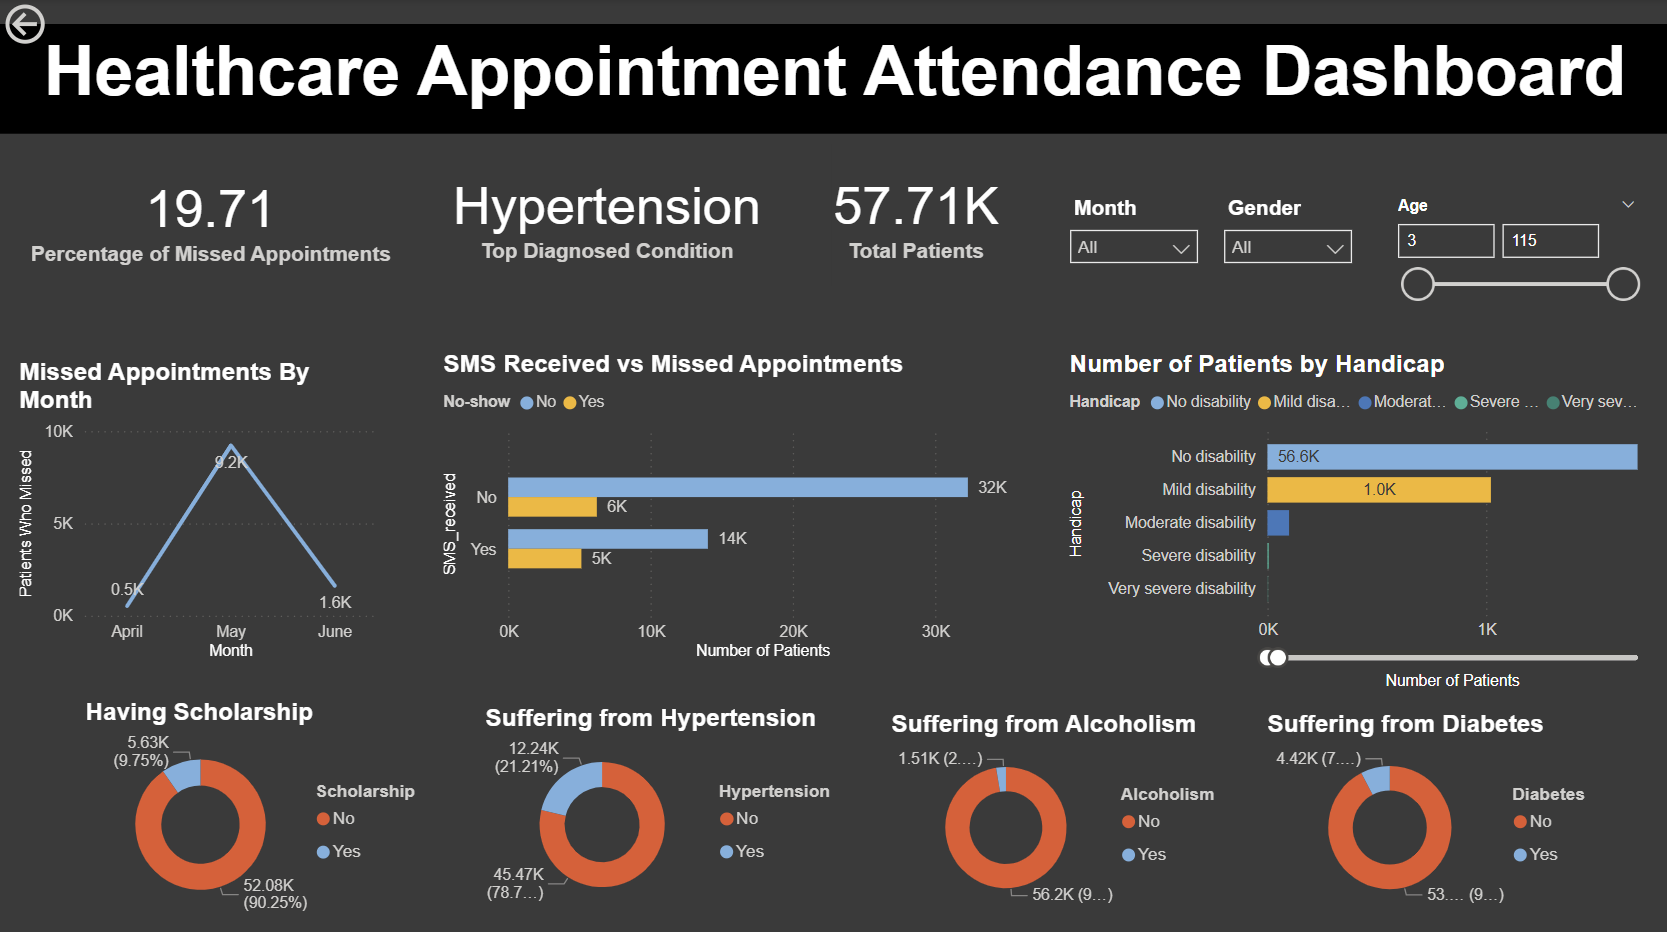

The dashboard page shown, as its layout file describes it:
{"tool":"powerbi","page":{"name":"Page 1","canvas":[1280,720],"ordinal":0},"visuals":[{"type":"textbox","box":[0,19.9,1280,84.2],"z":0},{"type":"card","fields":{"Values":["KaggleV2-May-2016.PatientId"]},"box":[607.8,111.8,188.3,108.7],"z":1000},{"type":"donutChart","title":"Suffering from Diabetes","fields":{"Y":["KaggleV2-May-2016.PatientId"],"Series":["KaggleV2-May-2016.Diabetes"]},"box":[966.1,545.1,272.5,159.2],"z":2000},{"type":"donutChart","title":"Suffering from Hypertension","fields":{"Y":["KaggleV2-May-2016.PatientId"],"Series":["KaggleV2-May-2016.Hipertension"]},"box":[367.5,540.5,278.7,163.8],"z":3000},{"type":"donutChart","title":"Suffering from Alcoholism","fields":{"Y":["KaggleV2-May-2016.PatientId"],"Series":["KaggleV2-May-2016.Alcoholism"]},"box":[678.3,545.1,272.5,159.2],"z":4000},{"type":"barChart","title":"Number of Patients by Handicap ","fields":{"Y":["KaggleV2-May-2016.PatientId"],"Category":["KaggleV2-May-2016.Handcap"],"Series":["KaggleV2-May-2016.Handcap"]},"box":[814.5,269.5,460.9,263.3],"z":5000},{"type":"donutChart","title":"Having Scholarship","fields":{"Y":["KaggleV2-May-2016.PatientId"],"Series":["KaggleV2-May-2016.Scholarship"]},"box":[61.2,535.9,274.1,173],"z":6000},{"type":"actionButton","box":[0,0,100,40],"z":7000},{"type":"card","fields":{"Values":["KaggleV2-May-2016.Most_Common_Issue"]},"box":[294,111.8,343,108.7],"z":8000},{"type":"card","fields":{"Values":["KaggleV2-May-2016.NoShow_Percentage"]},"box":[15.3,116.4,294,104.1],"z":9000},{"type":"slicer","fields":{"Values":["KaggleV2-May-2016.Gender"]},"box":[927.8,147,117.9,93.4],"z":10000},{"type":"slicer","fields":{"Values":["KaggleV2-May-2016.Age"]},"box":[1058,147,206.7,98],"z":11000},{"type":"lineChart","title":"Missed Appointments By Month","fields":{"Category":["KaggleV2-May-2016.AppointmentDay.Variation.Date Hierarchy.Month"],"Y":["KaggleV2-May-2016.NoShow_Count"]},"box":[10.7,275.6,283.3,235.8],"z":12000},{"type":"clusteredBarChart","title":"SMS Received vs Missed Appointments","fields":{"Category":["KaggleV2-May-2016.SMS_received"],"Y":["KaggleV2-May-2016.PatientId"],"Series":["KaggleV2-May-2016.No-show"]},"box":[335.3,269.5,460.9,241.9],"z":13000},{"type":"slicer","fields":{"Values":["KaggleV2-May-2016.AppointmentMonth"]},"box":[810,147,117.9,122.5],"z":14000}]}

Visuals, with their boxes in screenshot pixels (x1, y1, x2, y2), scaled from the page's 1280x720 canvas onto the 1667x932 screenshot:
textbox: [0, 26, 1666, 135]
card - KaggleV2-May-2016.PatientId: [792, 145, 1037, 285]
"Suffering from Diabetes" donutChart: [1258, 706, 1613, 912]
"Suffering from Hypertension" donutChart: [479, 700, 842, 912]
"Suffering from Alcoholism" donutChart: [883, 706, 1238, 912]
"Number of Patients by Handicap " barChart: [1061, 349, 1661, 690]
"Having Scholarship" donutChart: [80, 694, 437, 918]
actionButton: [0, 0, 130, 52]
card - KaggleV2-May-2016.Most_Common_Issue: [383, 145, 830, 285]
card - KaggleV2-May-2016.NoShow_Percentage: [20, 151, 403, 285]
slicer - KaggleV2-May-2016.Gender: [1208, 190, 1362, 311]
slicer - KaggleV2-May-2016.Age: [1378, 190, 1647, 317]
"Missed Appointments By Month" lineChart: [14, 357, 383, 662]
"SMS Received vs Missed Appointments" clusteredBarChart: [437, 349, 1037, 662]
slicer - KaggleV2-May-2016.AppointmentMonth: [1055, 190, 1208, 349]
